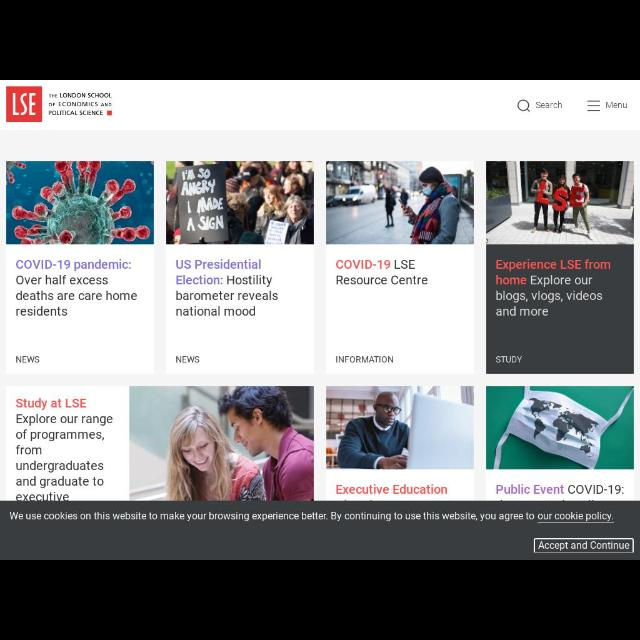icon: (587, 100, 601, 112), (518, 100, 530, 112)
image: (130, 386, 314, 500), (327, 160, 475, 244), (7, 162, 155, 244), (327, 386, 473, 468), (487, 387, 633, 469), (487, 162, 633, 244), (167, 161, 313, 243), (6, 86, 42, 122)
text: (17, 398, 114, 502), (17, 260, 139, 318), (496, 259, 610, 315), (9, 512, 615, 522), (176, 259, 278, 317), (336, 258, 426, 288), (49, 90, 113, 118), (496, 484, 624, 494), (336, 485, 446, 495), (539, 541, 631, 549), (335, 356, 393, 362), (536, 102, 562, 110), (606, 101, 626, 111), (15, 356, 39, 364), (176, 356, 198, 364), (496, 356, 522, 362)
textbutton: (535, 538, 633, 552)
toolbar: (1, 81, 639, 130)
